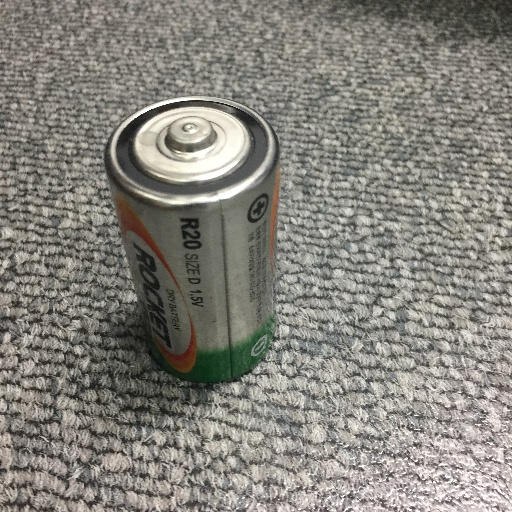Battery_0: (91, 83, 306, 398)
